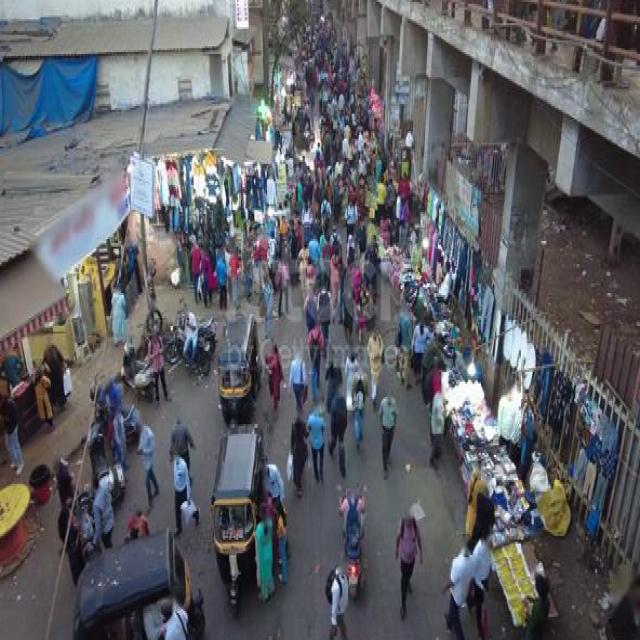fixed_stall: (437, 279, 616, 536), (150, 149, 276, 288), (384, 183, 469, 377), (486, 527, 552, 619), (257, 76, 291, 189), (362, 136, 382, 258)
sunshade: (0, 245, 68, 356)
